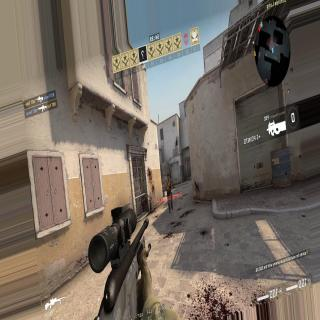T-Body: (166, 174, 174, 213)
T-Head: (167, 174, 169, 181)
